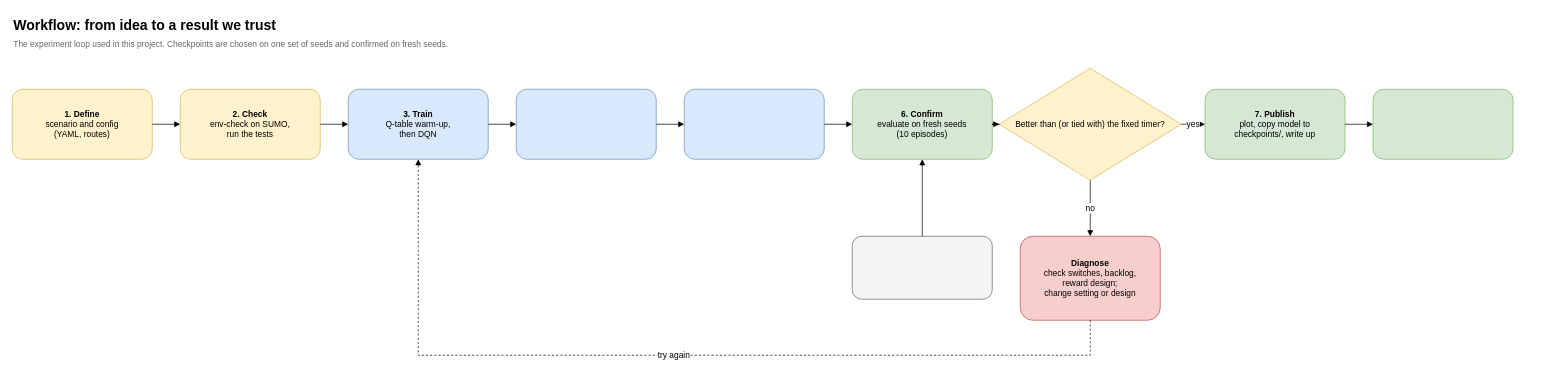
Some shapes in this 1558 by 373 pixel diagram are drawn without their labels. The shapes that lost their labels are listed below. From the top down, each one's centre as x and y in pixels, then its label:
At pixel 586 124: "4. Tune sweep: settings x seeds, look at switches too".
At pixel 754 124: "5. Select best checkpoint on selection seeds".
At pixel 1442 124: "8. Demo side-by-side app, results tab".
At pixel 922 267: "Fixed-time baseline same seeds, same scenario".
